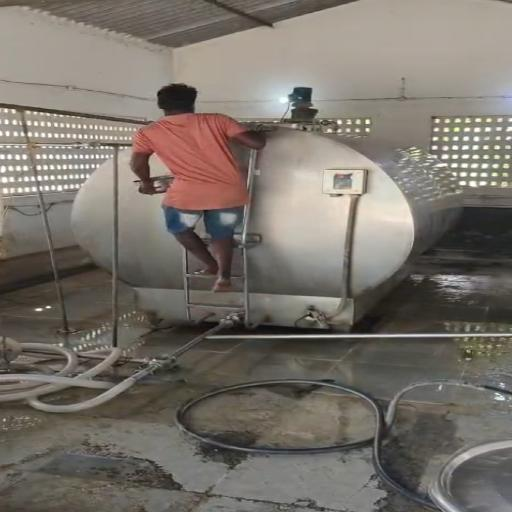silo: (69, 121, 465, 329)
vessel: (132, 174, 174, 194)
